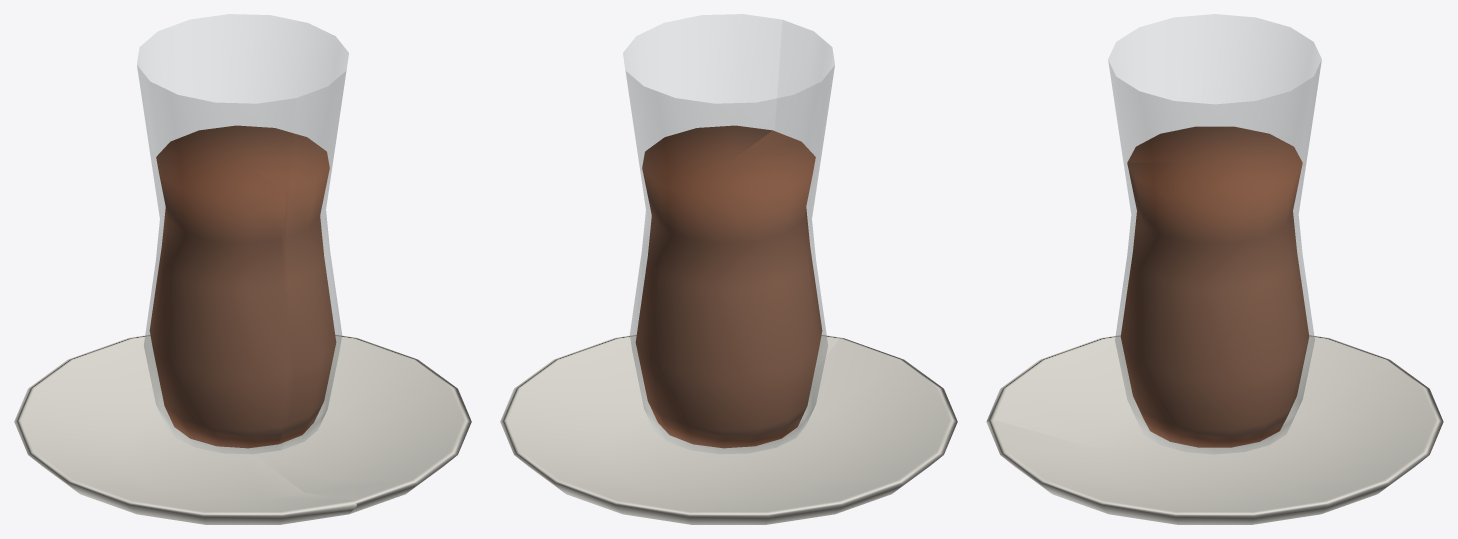
File: tea_glass.glb
3 renders of one model, left to right at view 1: azimuth 30°, elevation 25°; view 2: azimuth 150°, elevation 25°; view 3: azimuth 270°, elevation 25°, orthographic.
Parts seen in each view (by area): view 1: glass, saucer, tea; view 2: glass, saucer, tea; view 3: glass, saucer, tea.
Boxes of the visible parts, x1,y1,x2,y2 form: glass: (137,14,348,454); saucer: (14,335,471,524); tea: (149,125,336,448); glass: (623,14,834,454); saucer: (500,335,957,524); tea: (635,125,822,448); glass: (1108,14,1321,454); saucer: (986,335,1443,524); tea: (1120,126,1309,447).
Size of the model in its own units: 0.1103 by 0.1085 by 0.112.
